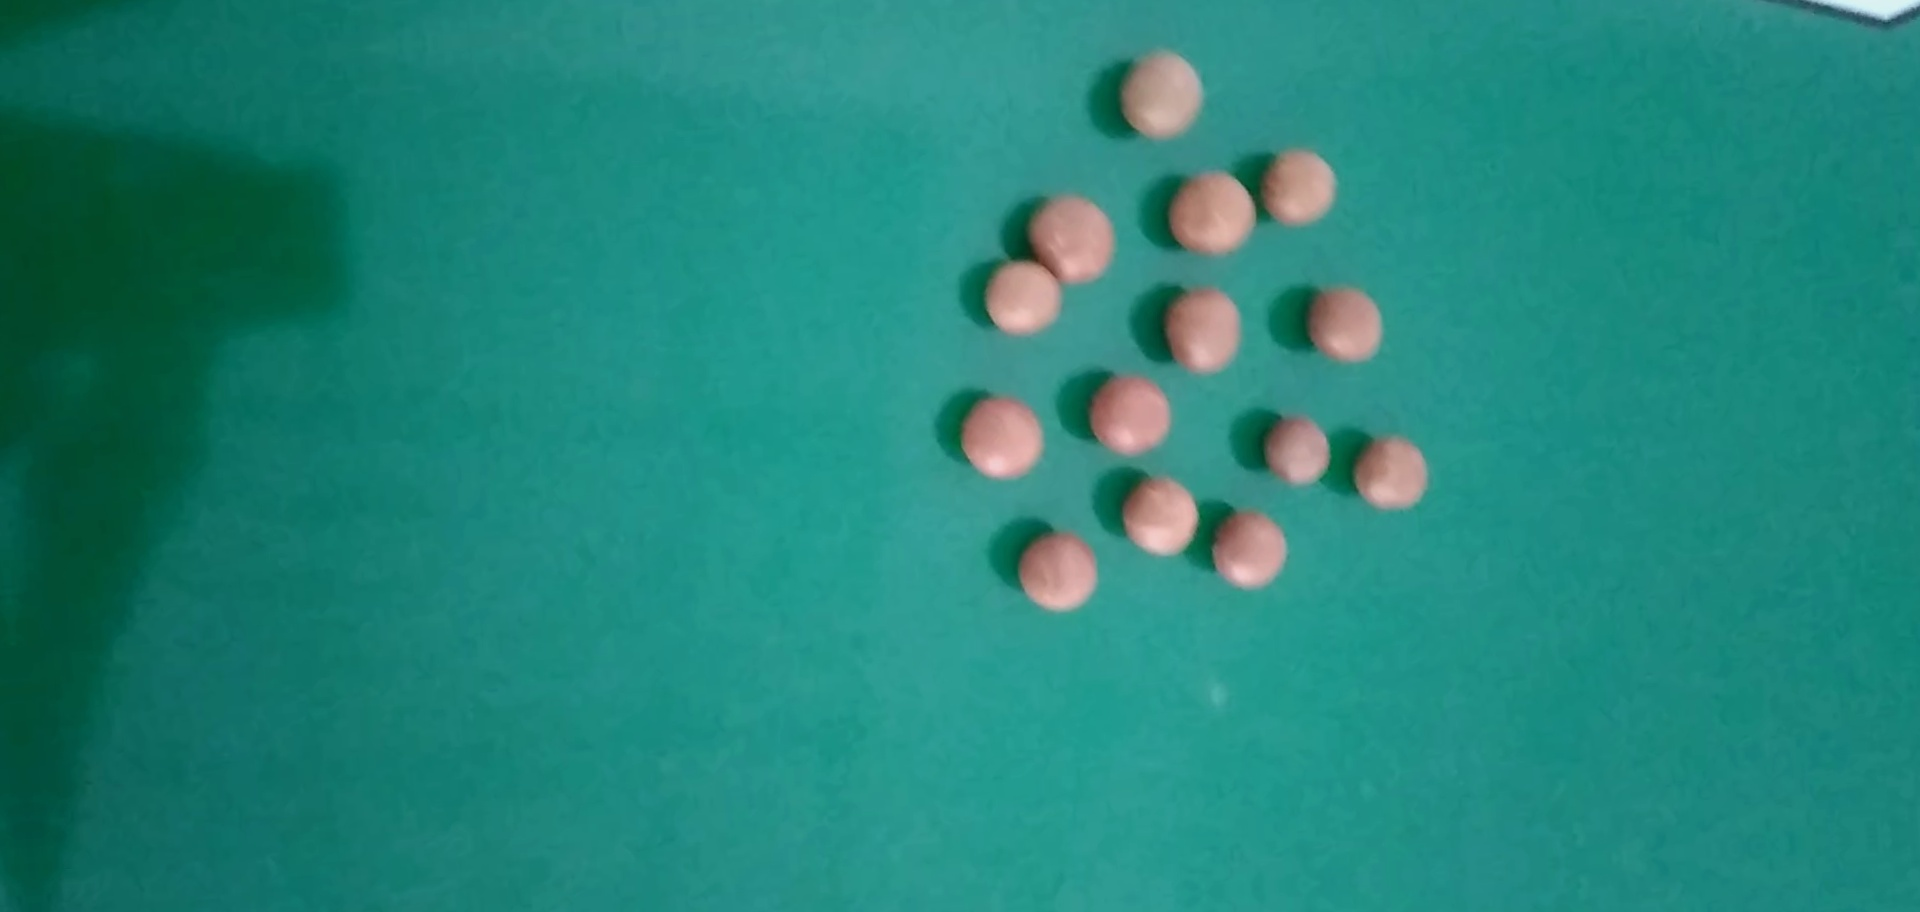mac: (1114, 44, 1210, 144), (1025, 191, 1118, 286), (1164, 169, 1260, 261), (959, 395, 1049, 484), (1258, 142, 1341, 235), (1015, 524, 1098, 617), (1163, 286, 1245, 376), (1087, 375, 1172, 459), (1119, 474, 1202, 559), (1349, 433, 1434, 515), (1212, 507, 1292, 591), (1307, 283, 1385, 366), (984, 260, 1064, 337), (1260, 413, 1332, 488)
